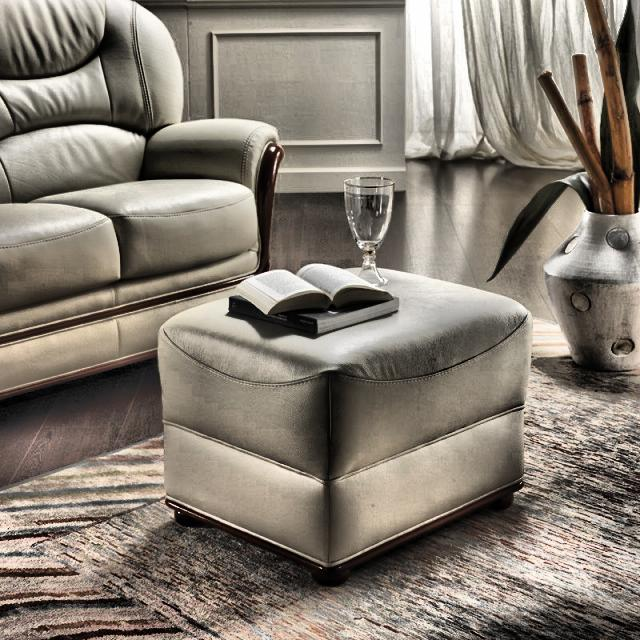sofa: (0, 0, 283, 400)
